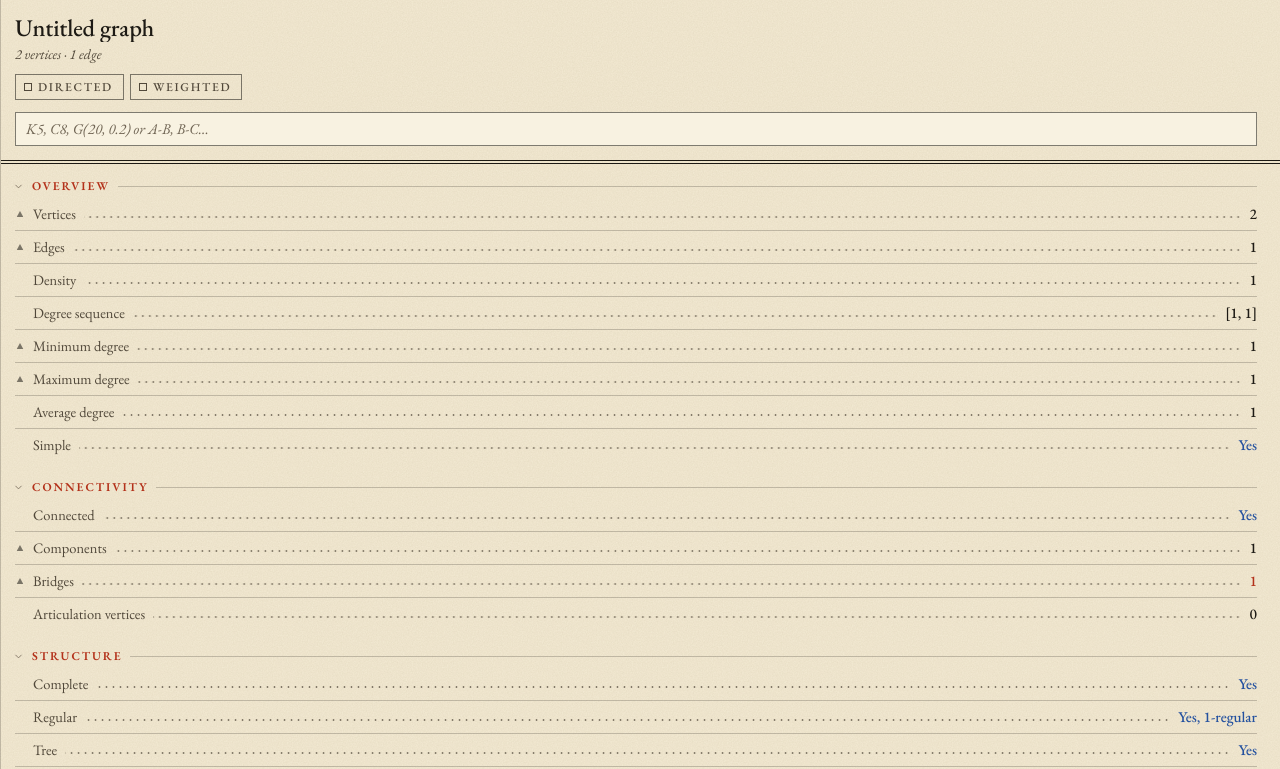
Test case: Inspector › collapses and expands a section
Click the button "Overview": (71, 186) [1, 164, 1271, 198]
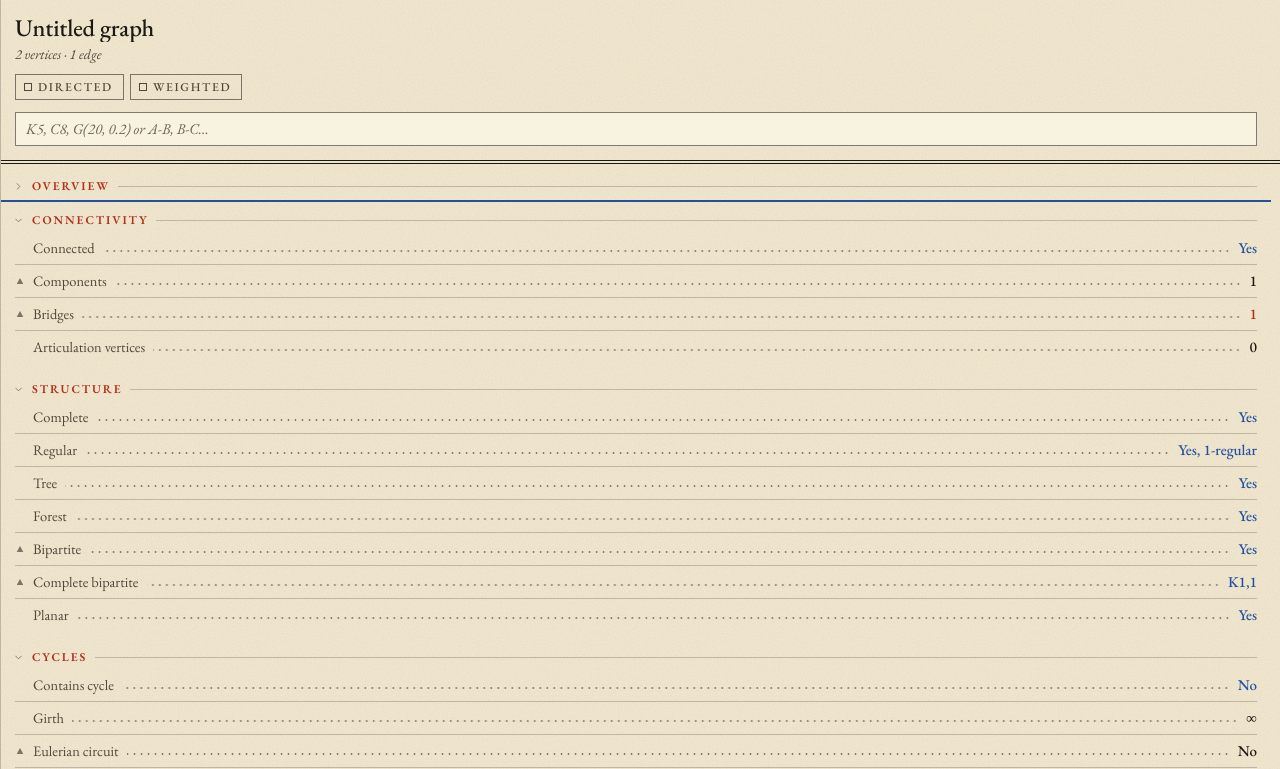
Now the text "Density" is gone
